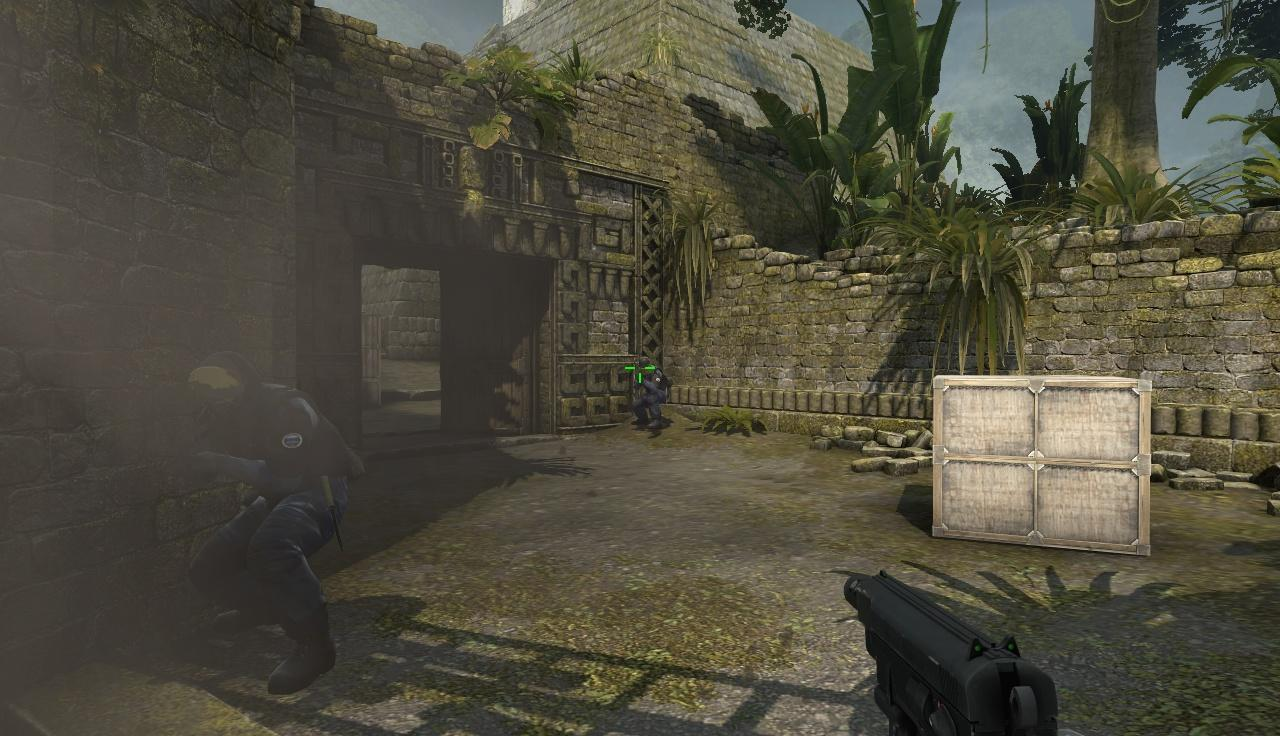ct: (184, 354, 340, 730), (633, 357, 667, 435)
cthead: (188, 360, 260, 424), (639, 358, 652, 376)
pistol: (836, 572, 1077, 736)
